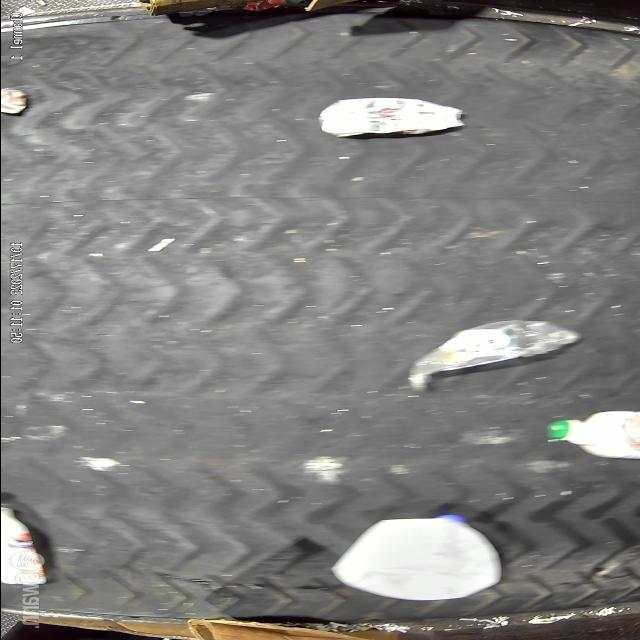milk_jug: (330, 514, 506, 602)
plastic_bottle: (406, 322, 578, 384)
